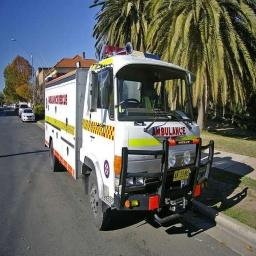Ambulance: (45, 44, 213, 228)
